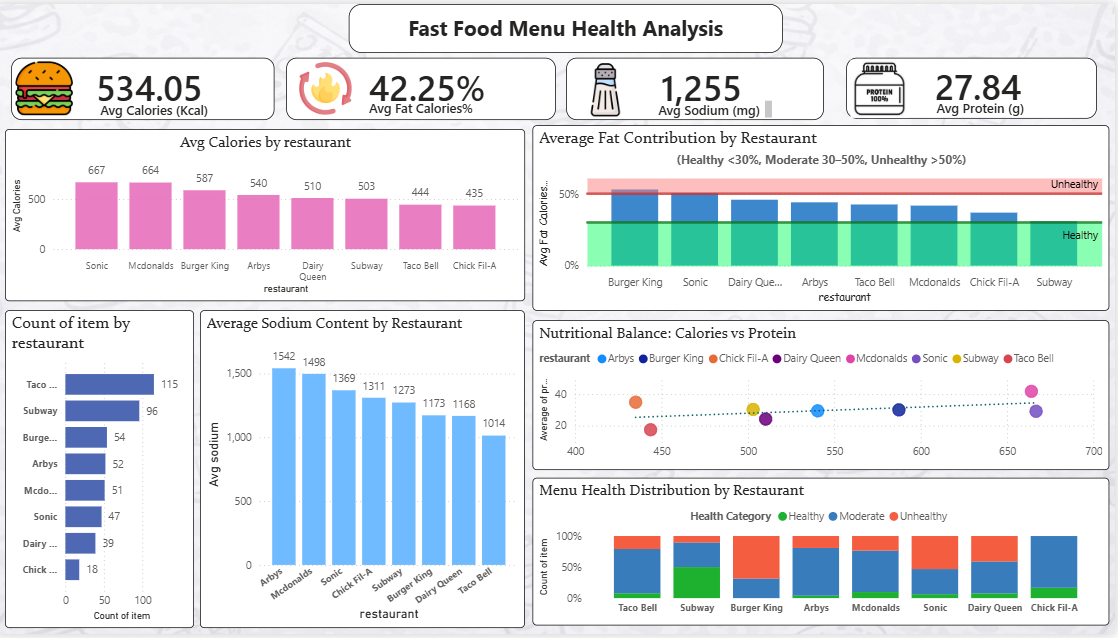

Layout of this report page (visuals, bound fields, positions):
{"tool":"powerbi","page":{"name":"Page 2","canvas":[1280,720],"ordinal":0},"visuals":[{"type":"card","title":"Avg Calories","fields":{"Values":["food_table.Avg Calories"]},"box":[19,61.9,301,71.4],"z":0},{"type":"card","fields":{"Values":["food_table.Avg Fat Calories%"]},"box":[332.4,61.9,307.6,71.4],"z":1000},{"type":"card","fields":{"Values":["food_table.Avg sodium"]},"box":[653.3,61.9,294.3,71.4],"z":2000},{"type":"card","fields":{"Values":["food_table.Avg Protein"]},"box":[972.4,61.9,286.7,69.5],"z":3000},{"type":"image","box":[19,49.5,75.2,93.3],"z":4000},{"type":"textbox","box":[105.7,105.7,152.4,33.3],"z":5000},{"type":"textbox","box":[421,104.8,130.5,33.3],"z":6000},{"type":"image","box":[343.3,52.2,69.7,87.1],"z":7000},{"type":"textbox","box":[747.6,105.7,145.7,29.5],"z":8000},{"type":"image","box":[640.6,62.2,115.7,70.9],"z":9000},{"type":"textbox","box":[1062.9,104.8,126.7,30.5],"z":10000},{"type":"textbox","box":[404.8,0,496.2,56.2],"z":12000},{"type":"clusteredColumnChart","fields":{"Category":["food_table.restaurant"],"Y":["food_table.Avg Calories"]},"box":[11.4,142.9,594.3,197.1],"z":13000},{"type":"clusteredColumnChart","title":"Average Fat Contribution by Restaurant","fields":{"Category":["food_table.restaurant"],"Y":["food_table.Avg Fat Calories%"]},"box":[614.3,138.1,659,212.4],"z":14000},{"type":"clusteredColumnChart","title":"Average Sodium Content by Restaurant","fields":{"Category":["food_table.restaurant"],"Y":["food_table.Avg sodium"]},"box":[234.3,350.5,371.4,362.9],"z":15000},{"type":"scatterChart","title":"Nutritional Balance: Calories vs Protein","fields":{"X":["food_table.calories"],"Y":["food_table.protein"],"Series":["food_table.restaurant"]},"box":[614.3,361,659,171.4],"z":16000},{"type":"barChart","fields":{"Y":["food_table.item"],"Category":["food_table.restaurant"]},"box":[11.4,350.5,216.2,362.9],"z":17000},{"type":"hundredPercentStackedColumnChart","title":"Menu Health Distribution by Restaurant","fields":{"Category":["food_table.restaurant"],"Series":["food_table.Health Category"],"Y":["food_table.item"]},"box":[614.3,541,659,168.6],"z":18000},{"type":"image","box":[972.4,56.2,76.2,81.9],"z":18001}]}

Visuals, with their boxes in screenshot pixels (x1, y1, x2, y2), scaled from the page's 1280x720 canvas onto the 1118x638 screenshot:
"Avg Calories" card: x1=17, y1=55, x2=280, y2=118
card - food_table.Avg Fat Calories%: x1=290, y1=55, x2=559, y2=118
card - food_table.Avg sodium: x1=571, y1=55, x2=828, y2=118
card - food_table.Avg Protein: x1=849, y1=55, x2=1100, y2=116
image: x1=17, y1=44, x2=82, y2=127
textbox: x1=92, y1=94, x2=225, y2=123
textbox: x1=368, y1=93, x2=482, y2=122
image: x1=300, y1=46, x2=361, y2=123
textbox: x1=653, y1=94, x2=780, y2=120
image: x1=560, y1=55, x2=661, y2=118
textbox: x1=928, y1=93, x2=1039, y2=120
textbox: x1=354, y1=0, x2=787, y2=50
clusteredColumnChart - food_table.restaurant x food_table.Avg Calories: x1=10, y1=127, x2=529, y2=301
"Average Fat Contribution by Restaurant" clusteredColumnChart: x1=537, y1=122, x2=1112, y2=311
"Average Sodium Content by Restaurant" clusteredColumnChart: x1=205, y1=311, x2=529, y2=632
"Nutritional Balance: Calories vs Protein" scatterChart: x1=537, y1=320, x2=1112, y2=472
barChart - food_table.item x food_table.restaurant: x1=10, y1=311, x2=199, y2=632
"Menu Health Distribution by Restaurant" hundredPercentStackedColumnChart: x1=537, y1=479, x2=1112, y2=629
image: x1=849, y1=50, x2=916, y2=122
